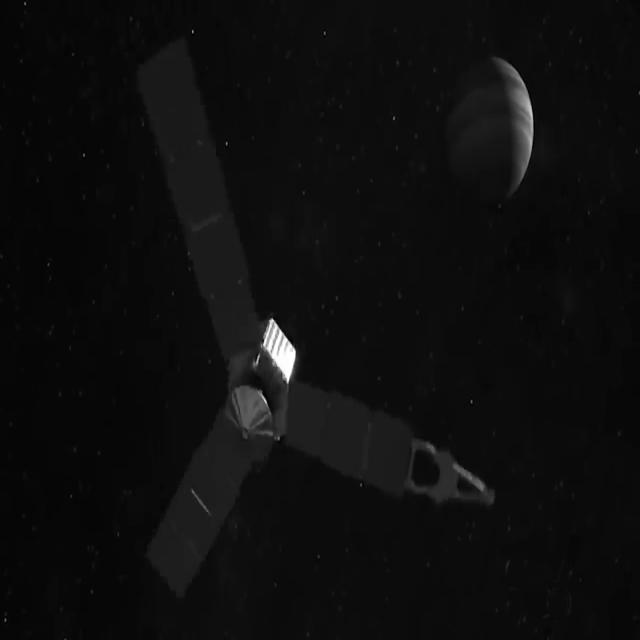satellite: (103, 0, 503, 640)
